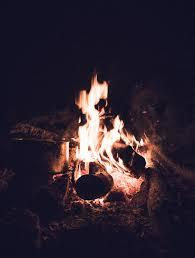Fire: (53, 73, 152, 198)
